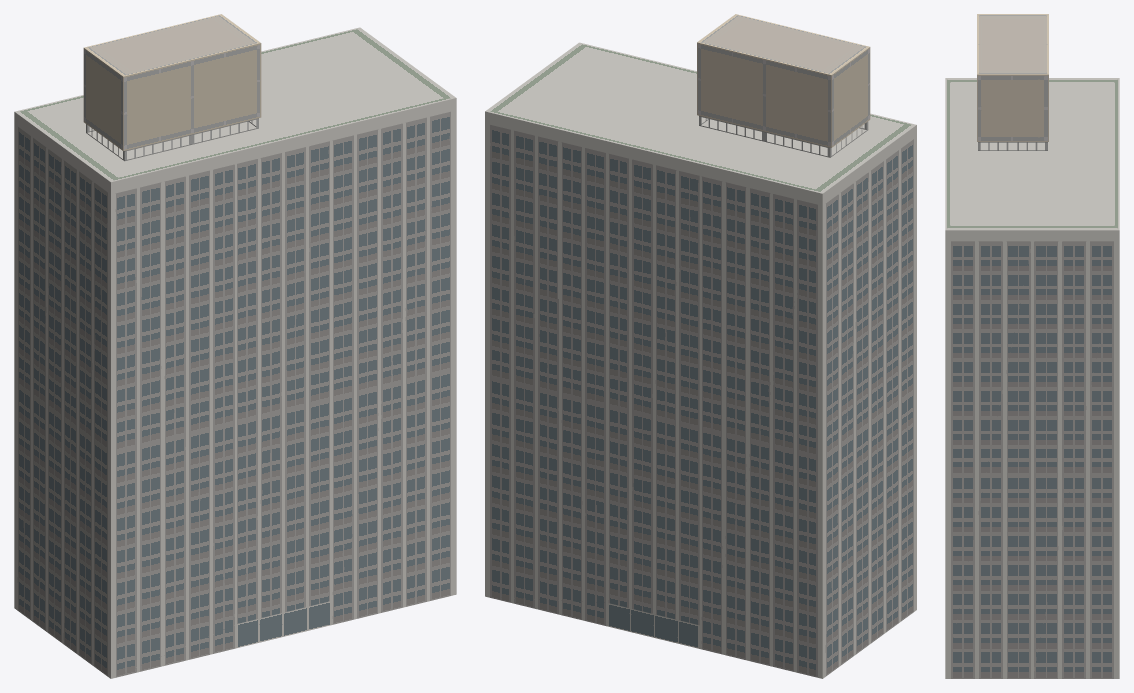
Rendered from 05aa_Mackerel_Building.glb.
3 renders of one model, left to right at view 1: azimuth 30°, elevation 25°; view 2: azimuth 150°, elevation 25°; view 3: azimuth 270°, elevation 25°, orthographic. The views are drawn at different scales.
Visible parts, largest first — view 1: part_0; view 2: part_0; view 3: part_0.
Part boxes in pixels (left/top/right/bottom): part_0: left=14, top=14, right=456, bottom=678; part_0: left=485, top=14, right=916, bottom=678; part_0: left=945, top=14, right=1119, bottom=678.
Size of the model in its own units: 41.8 by 67.27 by 20.21.
1 material, 1 textured.
